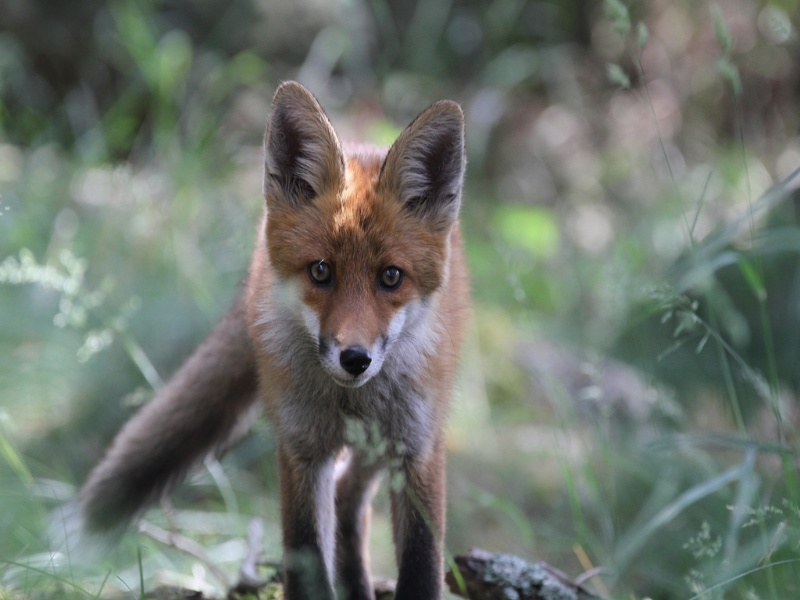fox: (78, 77, 465, 594)
